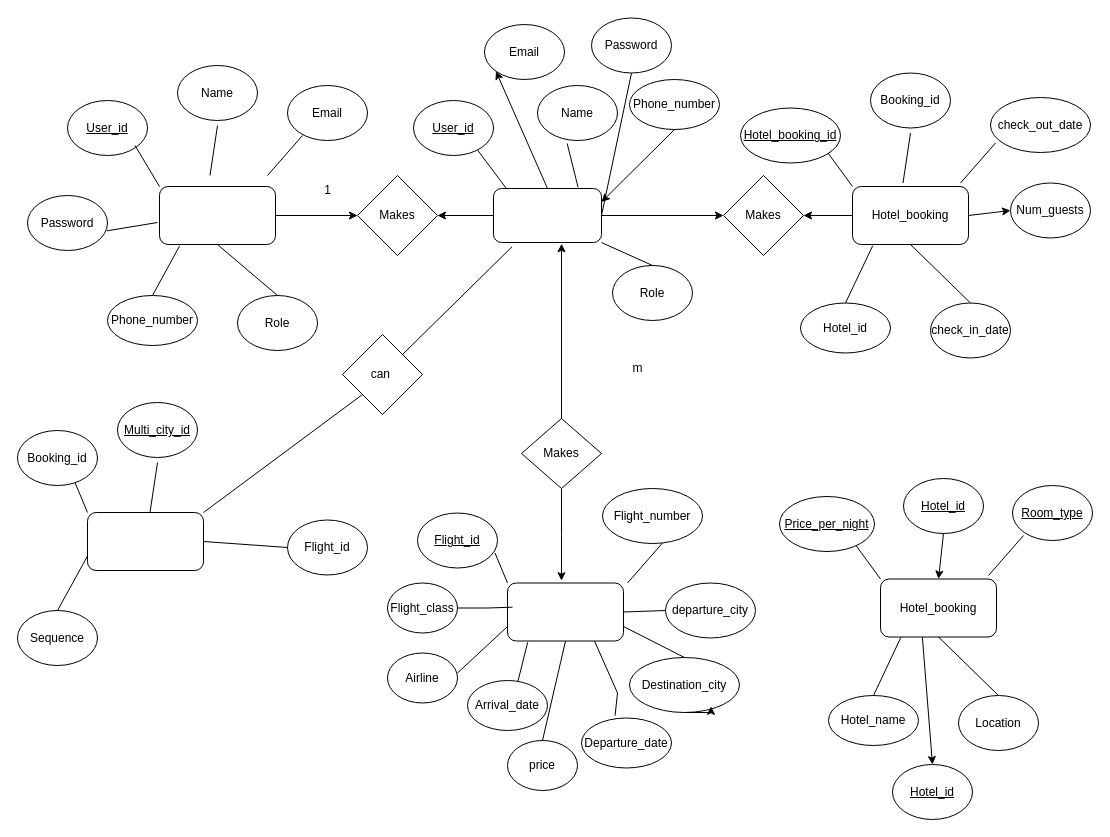
This 1110x837 diagram has some shape labels left out. Each missing label, with the box of its shape:
Booking: (492, 188, 602, 242)
Flights: (506, 582, 624, 641)
Multi_city_flights: (86, 512, 204, 570)
Users: (158, 186, 276, 244)
